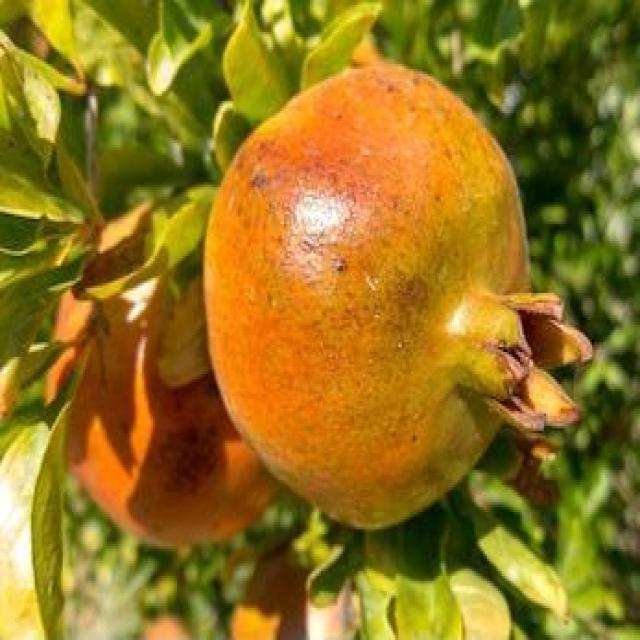Pomegranate: (203, 60, 596, 536)
